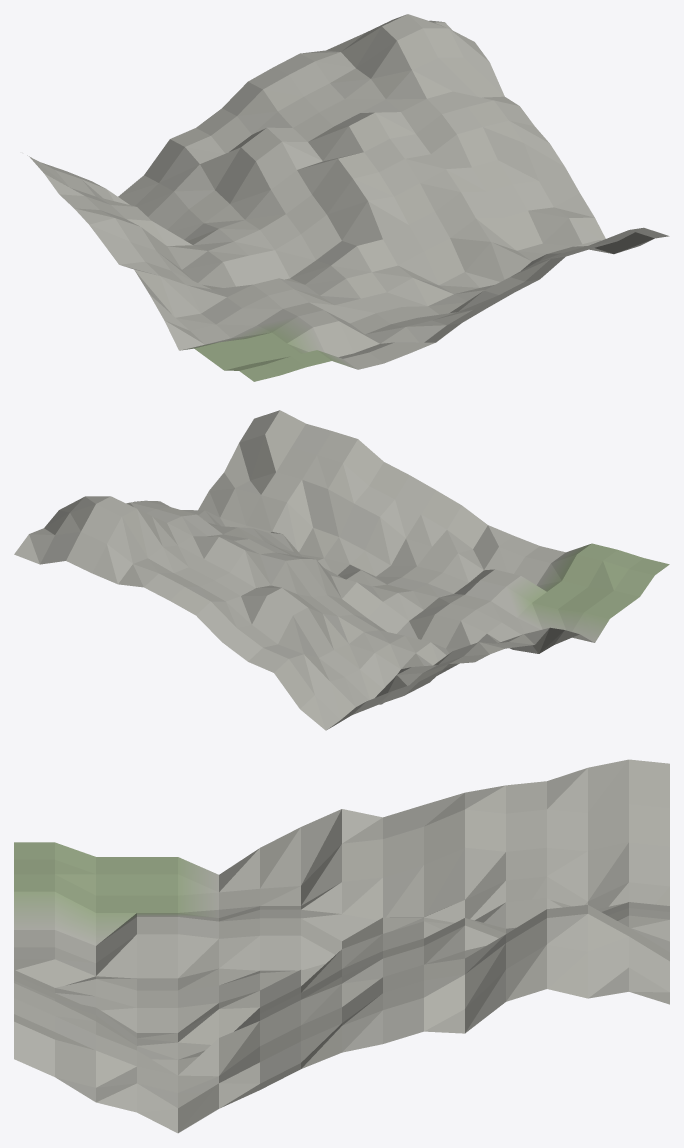
The picture shows the model from 3 angles, top to bottom: view 1: azimuth 30°, elevation 25°; view 2: azimuth 150°, elevation 25°; view 3: azimuth 270°, elevation 25°; orthographic projection. The views are drawn at different scales.
Bounding box in the file's own units: 32 × 11.08 × 32.
